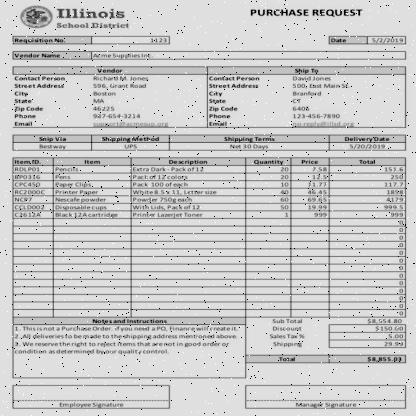Paragraph: (12, 67, 170, 127), (207, 67, 356, 127), (13, 318, 238, 355), (269, 318, 406, 348), (55, 7, 130, 29), (13, 36, 169, 44), (250, 8, 364, 18), (12, 52, 154, 60), (101, 136, 160, 150), (278, 356, 403, 362), (224, 136, 276, 150), (344, 136, 390, 150), (329, 36, 405, 44), (38, 136, 66, 150)
Table: (14, 158, 406, 316)
